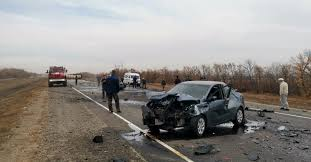car: (142, 69, 261, 142)
